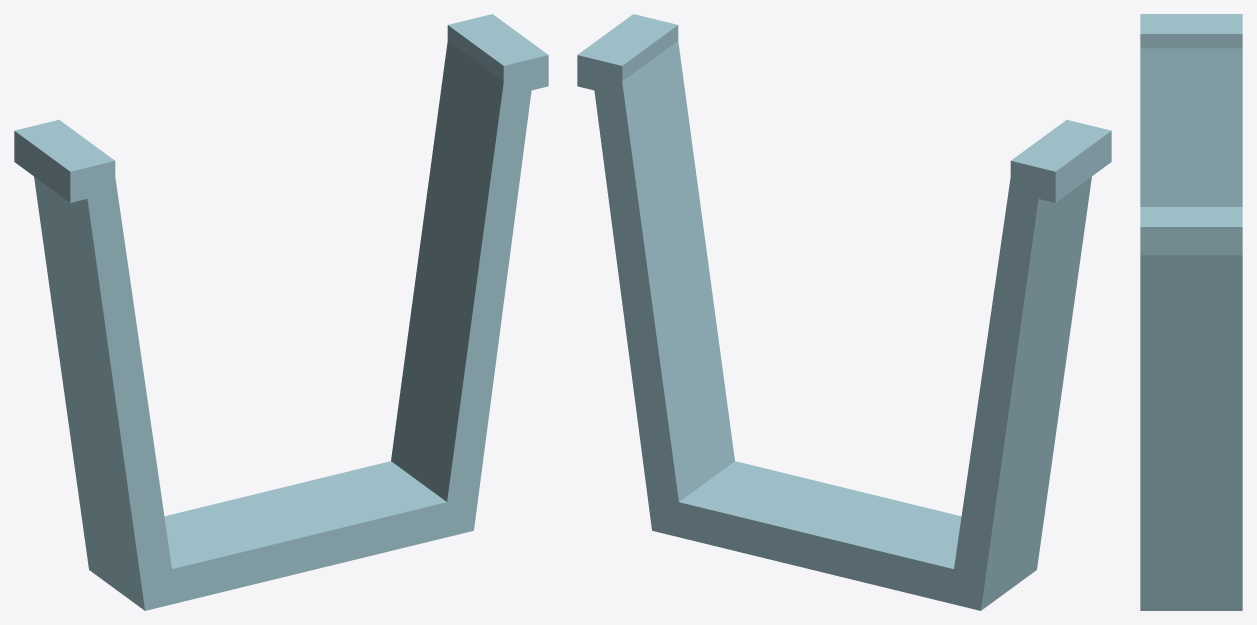
Rendered from bucket.glb.
3 renders of one model, left to right at view 1: azimuth 30°, elevation 25°; view 2: azimuth 150°, elevation 25°; view 3: azimuth 270°, elevation 25°, orthographic. The views are drawn at different scales.
Visible parts, largest first — view 1: bucket0, bucket1, bucket2; view 2: bucket0, bucket1, bucket2; view 3: bucket0, bucket2, bucket1.
Part boxes in pixels (x1,y1,x2,y2): bucket0: [34, 41, 533, 610]; bucket1: [14, 120, 115, 202]; bucket2: [447, 14, 548, 90]; bucket0: [592, 41, 1091, 610]; bucket1: [1010, 120, 1111, 202]; bucket2: [577, 14, 678, 96]; bucket0: [1140, 48, 1242, 610]; bucket2: [1140, 207, 1242, 255]; bucket1: [1140, 14, 1242, 48].
Size of the model in its own units: 0.64 by 0.585 by 0.13.
